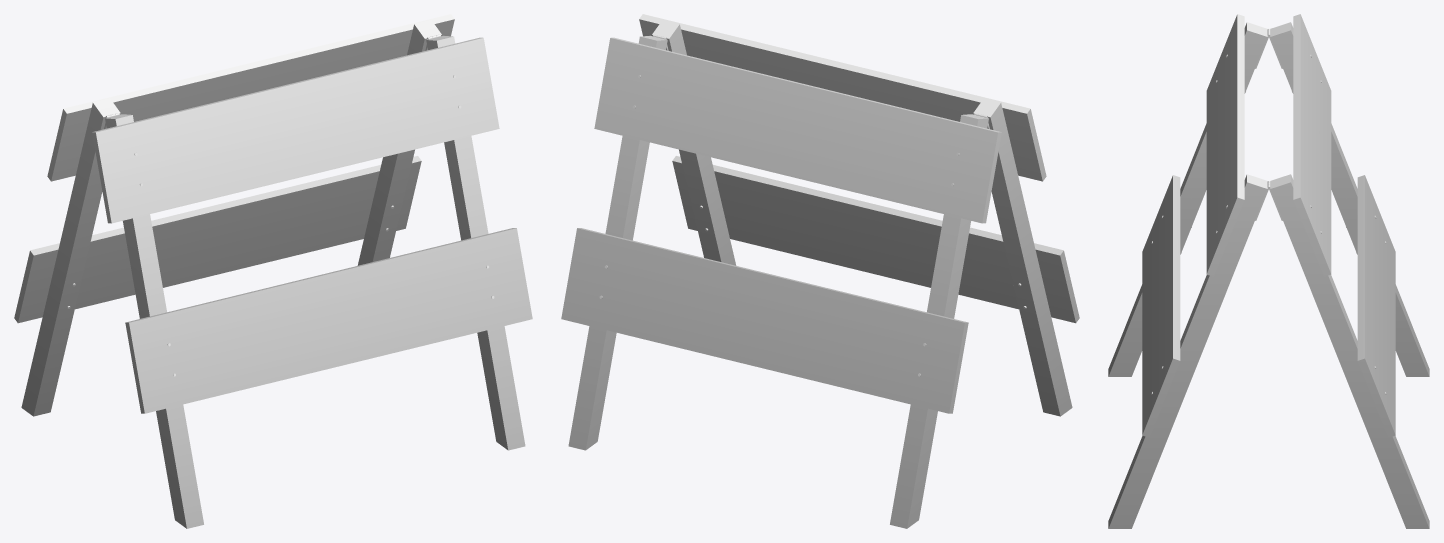
The model's file is simple_barricade_01_medium.glb.
3 renders of one model, left to right at view 1: azimuth 30°, elevation 25°; view 2: azimuth 150°, elevation 25°; view 3: azimuth 270°, elevation 25°, orthographic. The views are drawn at different scales.
Visible parts, largest first — view 1: simple_barricade_01_medium; view 2: simple_barricade_01_medium; view 3: simple_barricade_01_medium.
Part boxes in pixels (left/top/right/bottom): simple_barricade_01_medium: left=14, top=14, right=532, bottom=528; simple_barricade_01_medium: left=561, top=14, right=1079, bottom=528; simple_barricade_01_medium: left=1108, top=14, right=1429, bottom=528.
Bounding box in the file's own units: 1.12 × 0.9894 × 0.8304.
Materials: 1 (1 with a texture image).
